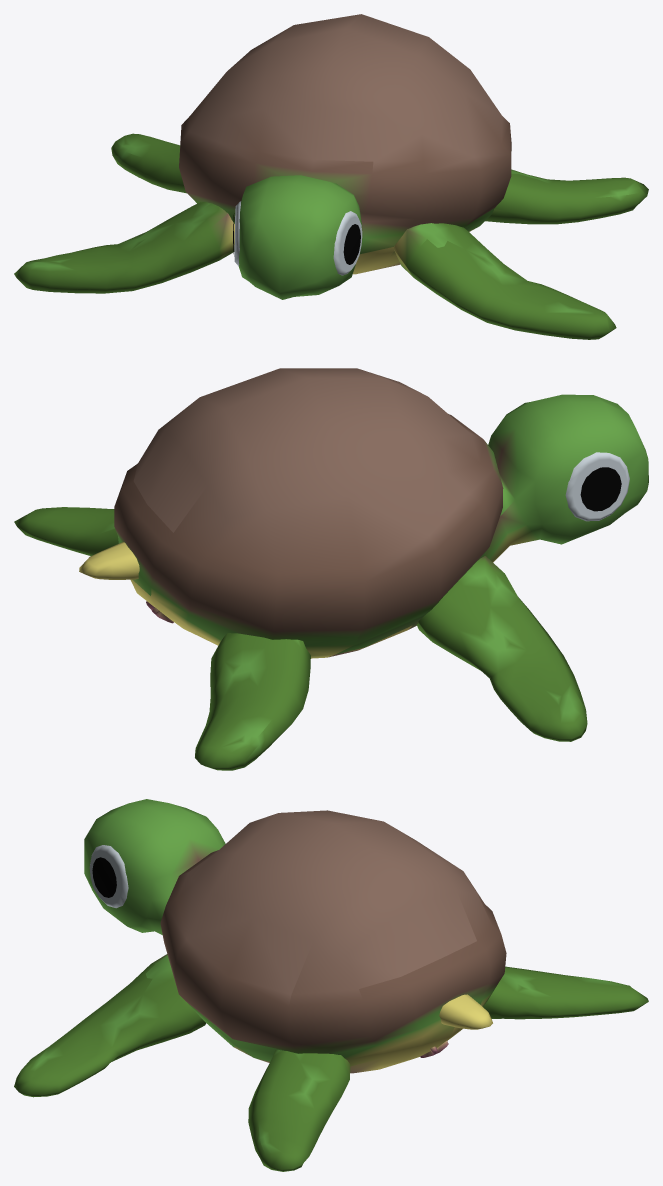
The model's file is Turtle.glb.
The picture shows the model from 3 angles, top to bottom: view 1: azimuth 30°, elevation 25°; view 2: azimuth 150°, elevation 25°; view 3: azimuth 270°, elevation 25°; orthographic projection. The views are drawn at different scales.
Parts seen in each view (by area): view 1: 170; view 2: 170; view 3: 170.
Boxes of the visible parts, box(x1,y1,x2,y2) form: 170: box(14, 14, 648, 339); 170: box(14, 368, 648, 770); 170: box(14, 799, 648, 1171).
Size of the model in its own units: 1.29 by 0.4813 by 1.26.
